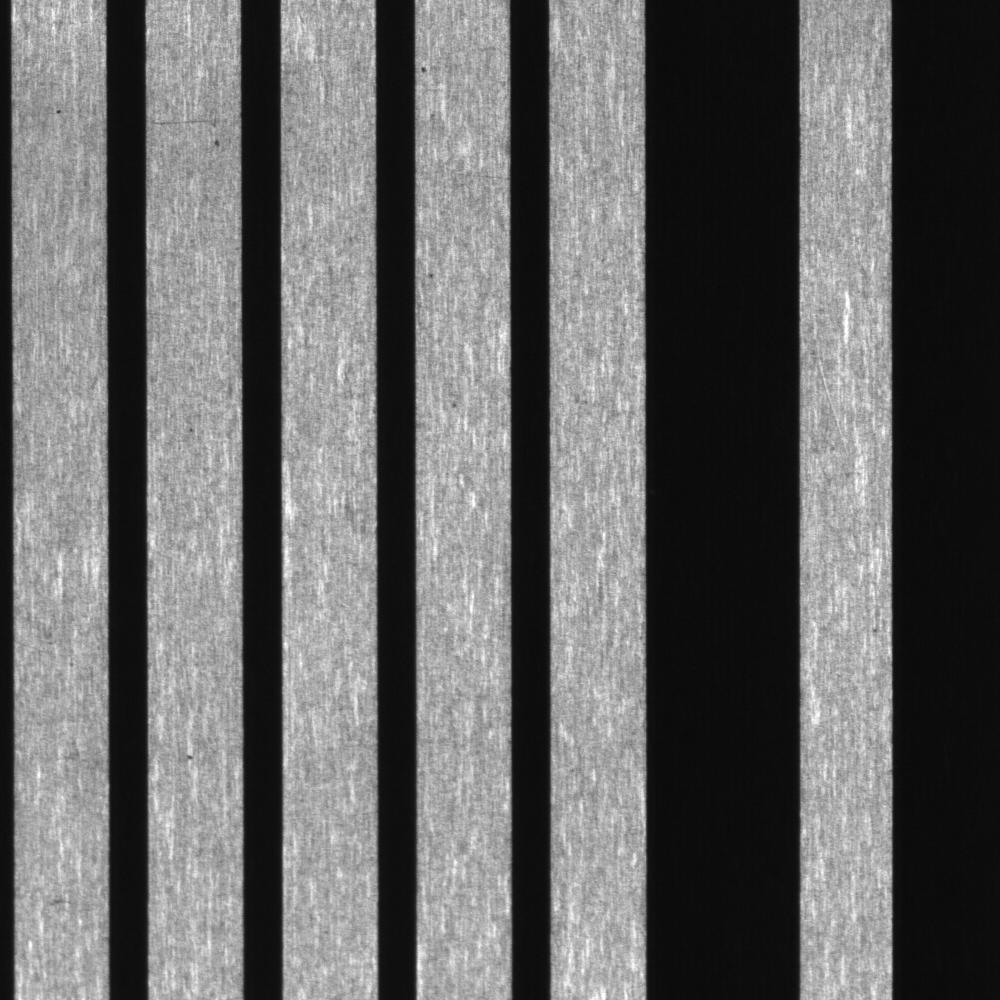Etching: (174, 741, 203, 768)
Pinhole: (176, 415, 208, 446), (42, 99, 74, 125), (863, 616, 891, 645), (422, 262, 447, 289), (442, 391, 467, 414), (417, 56, 436, 83)
Scar: (810, 346, 851, 464), (144, 106, 227, 131)
